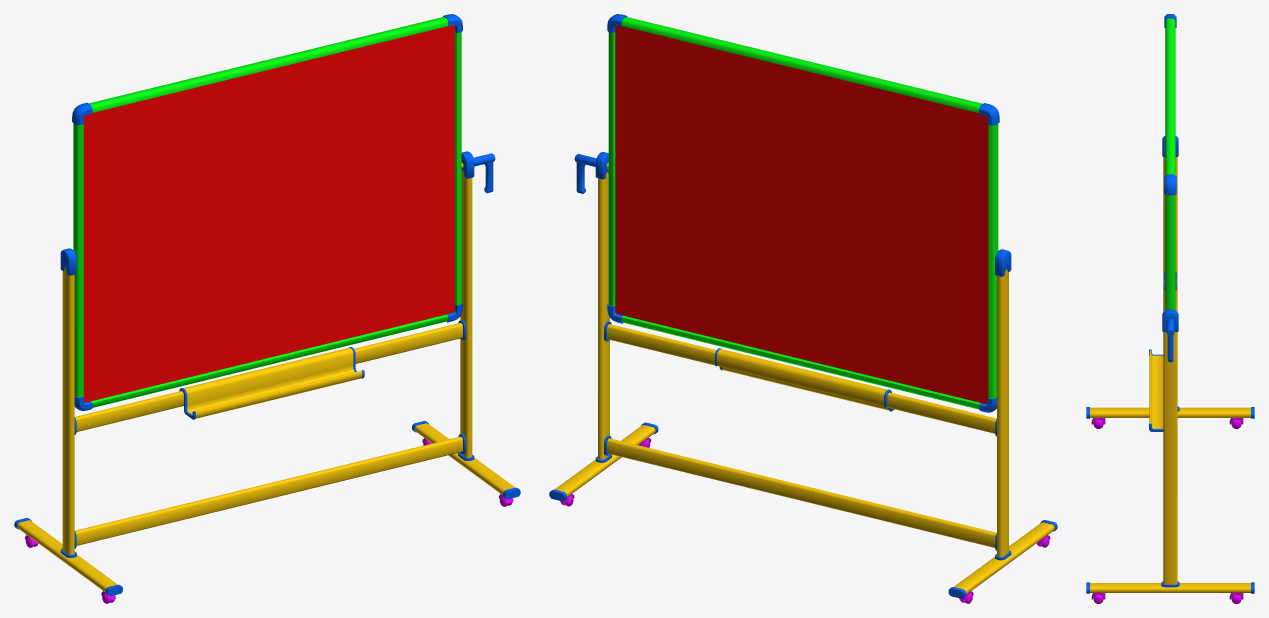
Rendered from uploads_files_3685891_matID.fbx.
3 views of the same model, side by side, from view 1: azimuth 30°, elevation 25°; view 2: azimuth 150°, elevation 25°; view 3: azimuth 270°, elevation 25° (orthographic). The views are drawn at different scales.
Visible parts, largest first — view 1: Object002, aluminum001, plastic001; view 2: Object002, aluminum001, plastic001; view 3: aluminum001, Object002, plastic001.
Boxes of the visible parts, bbox=[...] form: Object002: bbox=[72, 14, 462, 410]; aluminum001: bbox=[17, 162, 514, 592]; plastic001: bbox=[14, 151, 520, 596]; Object002: bbox=[607, 14, 999, 412]; aluminum001: bbox=[555, 163, 1054, 594]; plastic001: bbox=[549, 152, 1057, 598]; aluminum001: bbox=[1090, 157, 1250, 592]; Object002: bbox=[1164, 14, 1176, 310]; plastic001: bbox=[1086, 136, 1254, 593].
Bounding box in the file's own units: 225 × 231 × 84.06.
